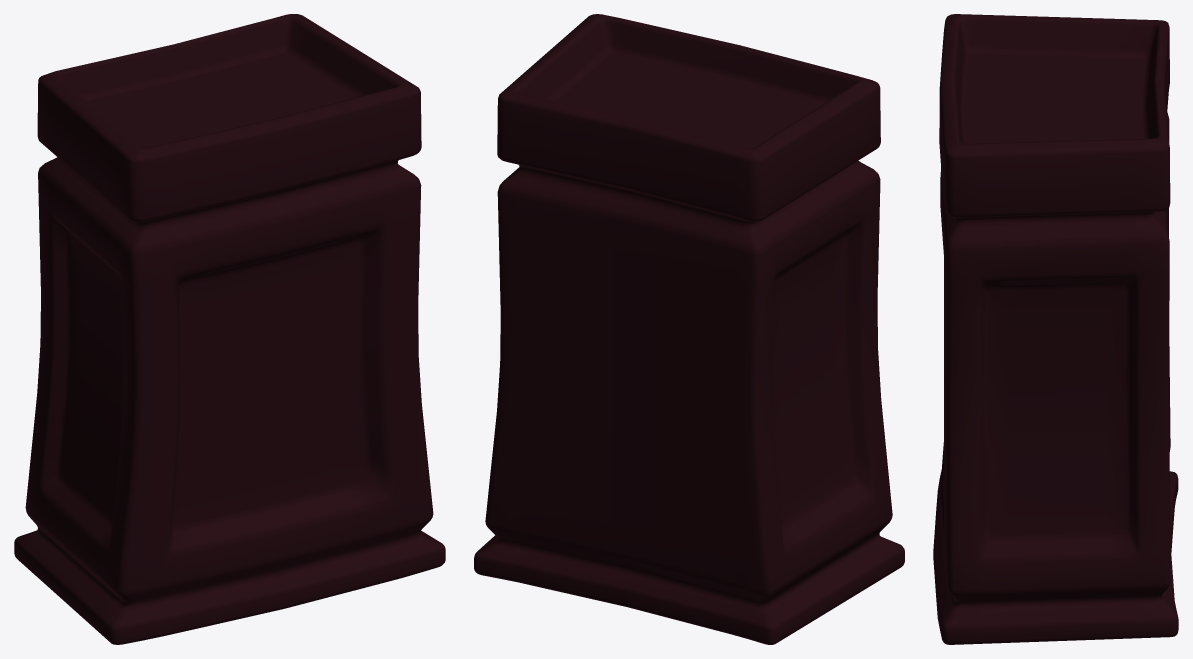
The model's file is UI_start_screen_column.fbx.
The picture shows the model from 3 angles, left to right: view 1: azimuth 30°, elevation 25°; view 2: azimuth 150°, elevation 25°; view 3: azimuth 270°, elevation 25°; orthographic projection.
Visible parts, largest first — view 1: frame.002; view 2: frame.002; view 3: frame.002.
Part boxes in pixels (bbox=[...]): frame.002: bbox=[14, 14, 445, 644]; frame.002: bbox=[474, 14, 904, 644]; frame.002: bbox=[933, 14, 1178, 644].
Size of the model in its own units: 142 by 196 by 89.73.
